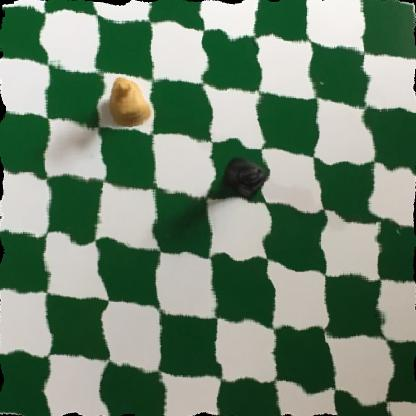black-king: (219, 149, 266, 201)
white-king: (104, 76, 151, 131)
